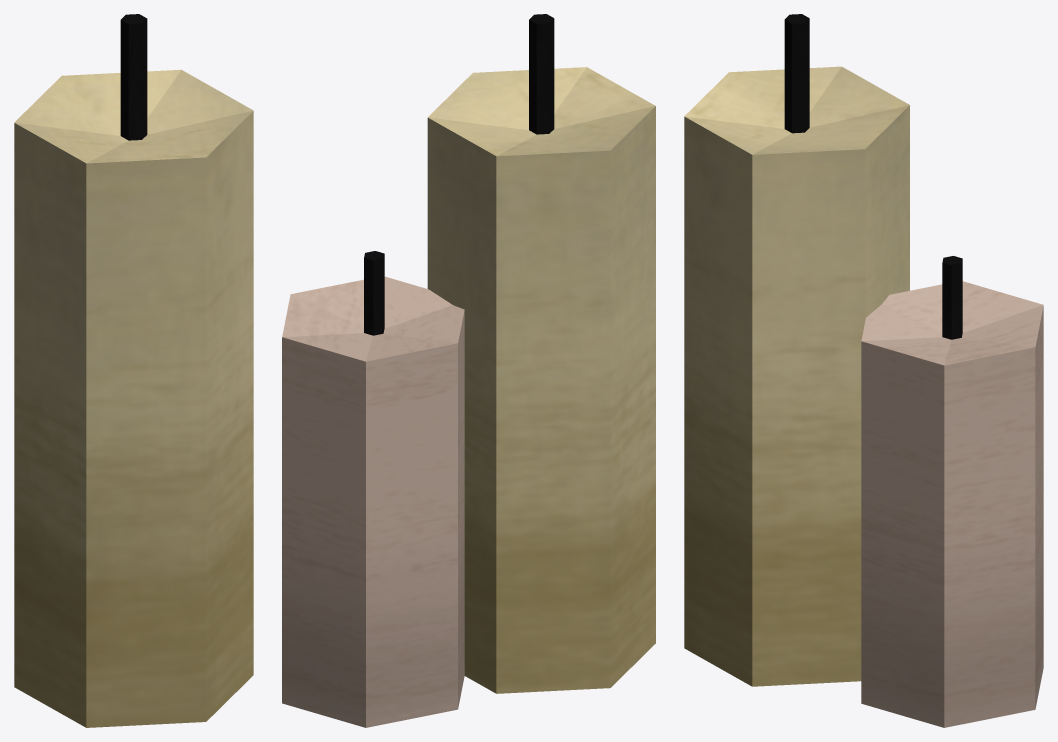
Rendered from F_Candle_2.fbx.
The picture shows the model from 3 angles, left to right: view 1: azimuth 30°, elevation 25°; view 2: azimuth 150°, elevation 25°; view 3: azimuth 270°, elevation 25°; orthographic projection. The views are drawn at different scales.
Parts seen in each view (by area): view 1: F_Candle_2; view 2: F_Candle_2; view 3: F_Candle_2.
Boxes of the visible parts, left/top/right/bottom form: F_Candle_2: left=14, top=14, right=253, bottom=727; F_Candle_2: left=282, top=14, right=655, bottom=727; F_Candle_2: left=684, top=14, right=1043, bottom=727.
Bounding box in the file's own units: 0.2177 × 0.4167 × 0.1856.
1 material, 1 textured.
